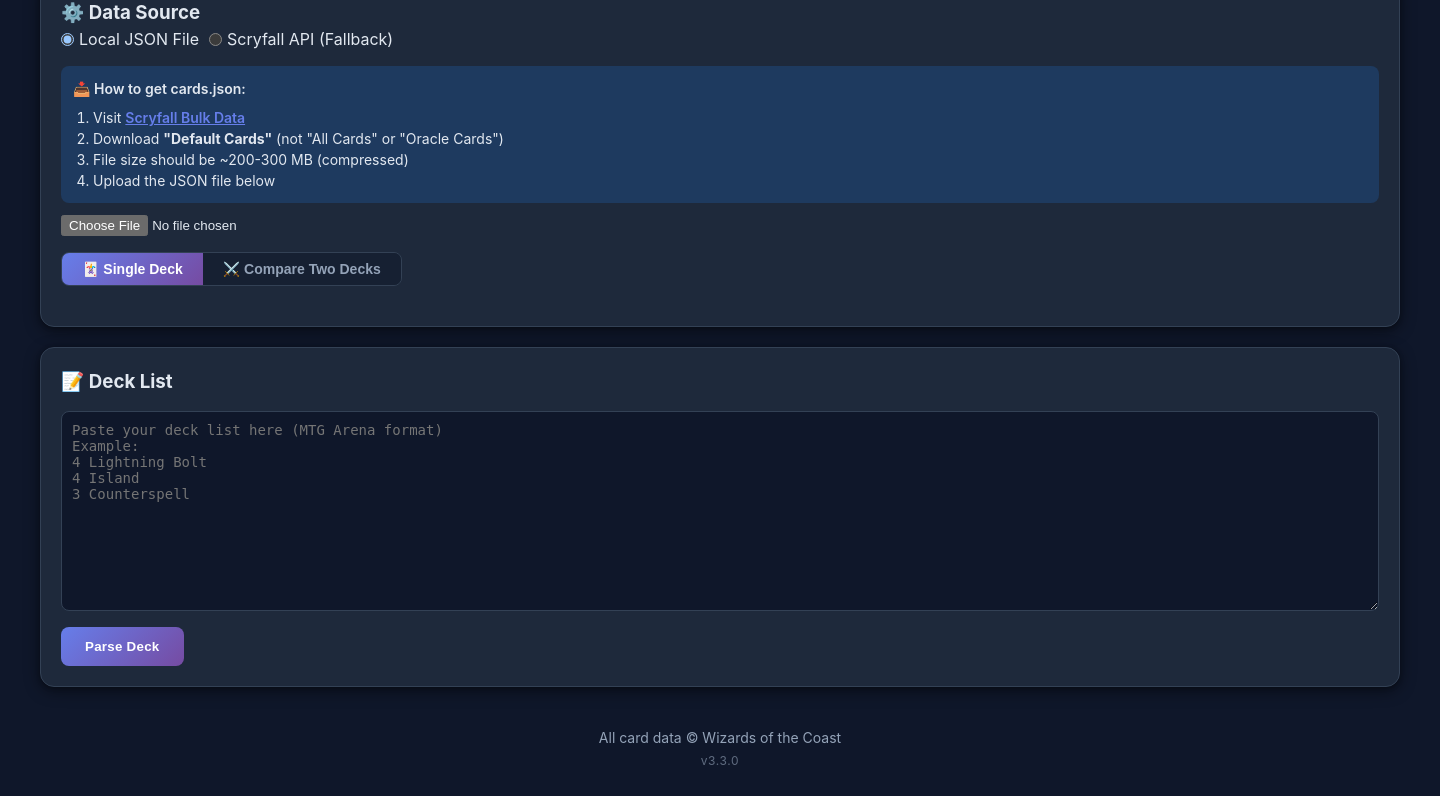
Scenario: Parse Deck flow › shows parse errors returned inside the deck object
(page scrolled)
Click the button "Parse Deck" at (122, 647), box [61,627,184,666]
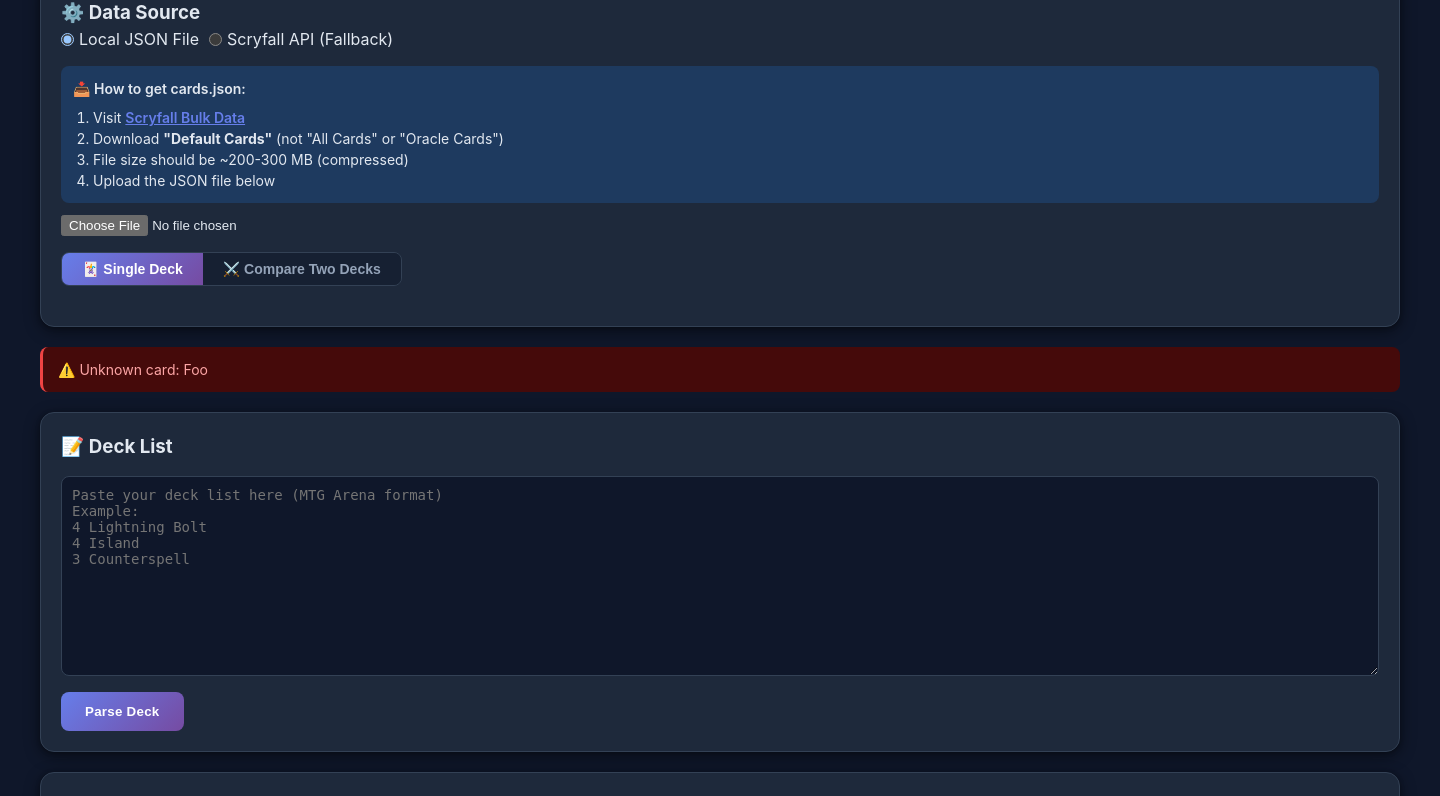
Check: the text "⚠️ Unknown card: Foo" is shown, box [40,347,1400,392]
